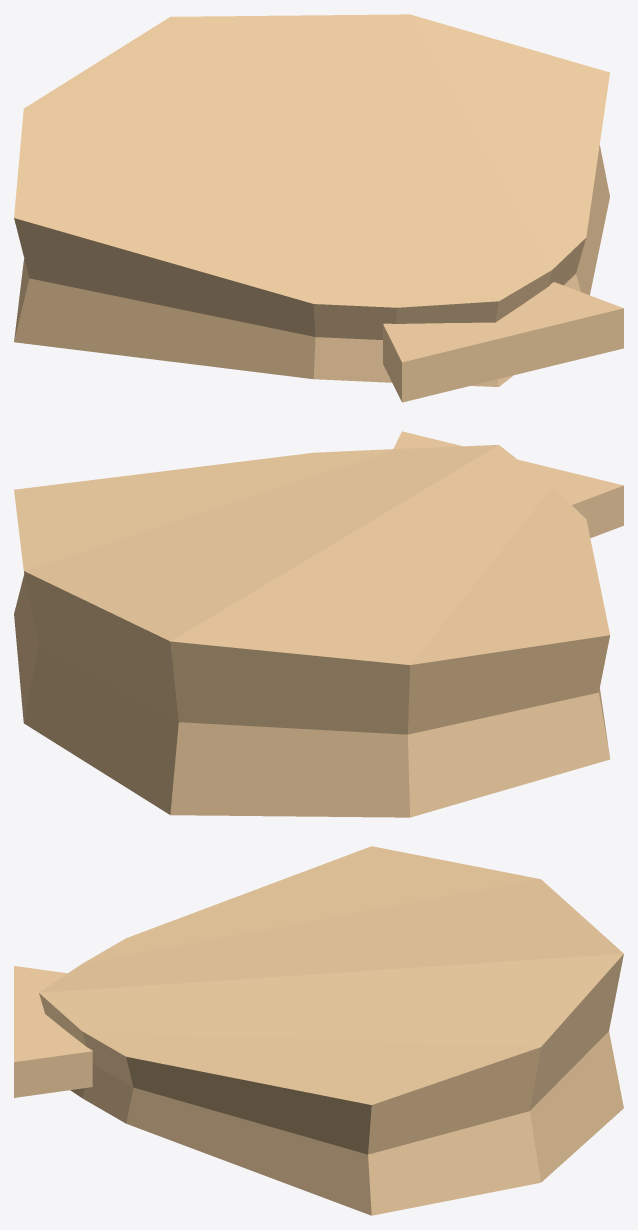
The model's file is kerang.fbx.
The picture shows the model from 3 angles, top to bottom: view 1: azimuth 30°, elevation 25°; view 2: azimuth 150°, elevation 25°; view 3: azimuth 270°, elevation 25°; orthographic projection. The views are drawn at different scales.
Visible parts, largest first — view 1: kerang; view 2: kerang; view 3: kerang.
Part boxes in pixels (<box>): kerang: <box>14,14,623,402</box>; kerang: <box>14,431,623,817</box>; kerang: <box>14,846,623,1215</box>.
Size of the model in its own units: 42.48 by 11.83 by 42.29.
